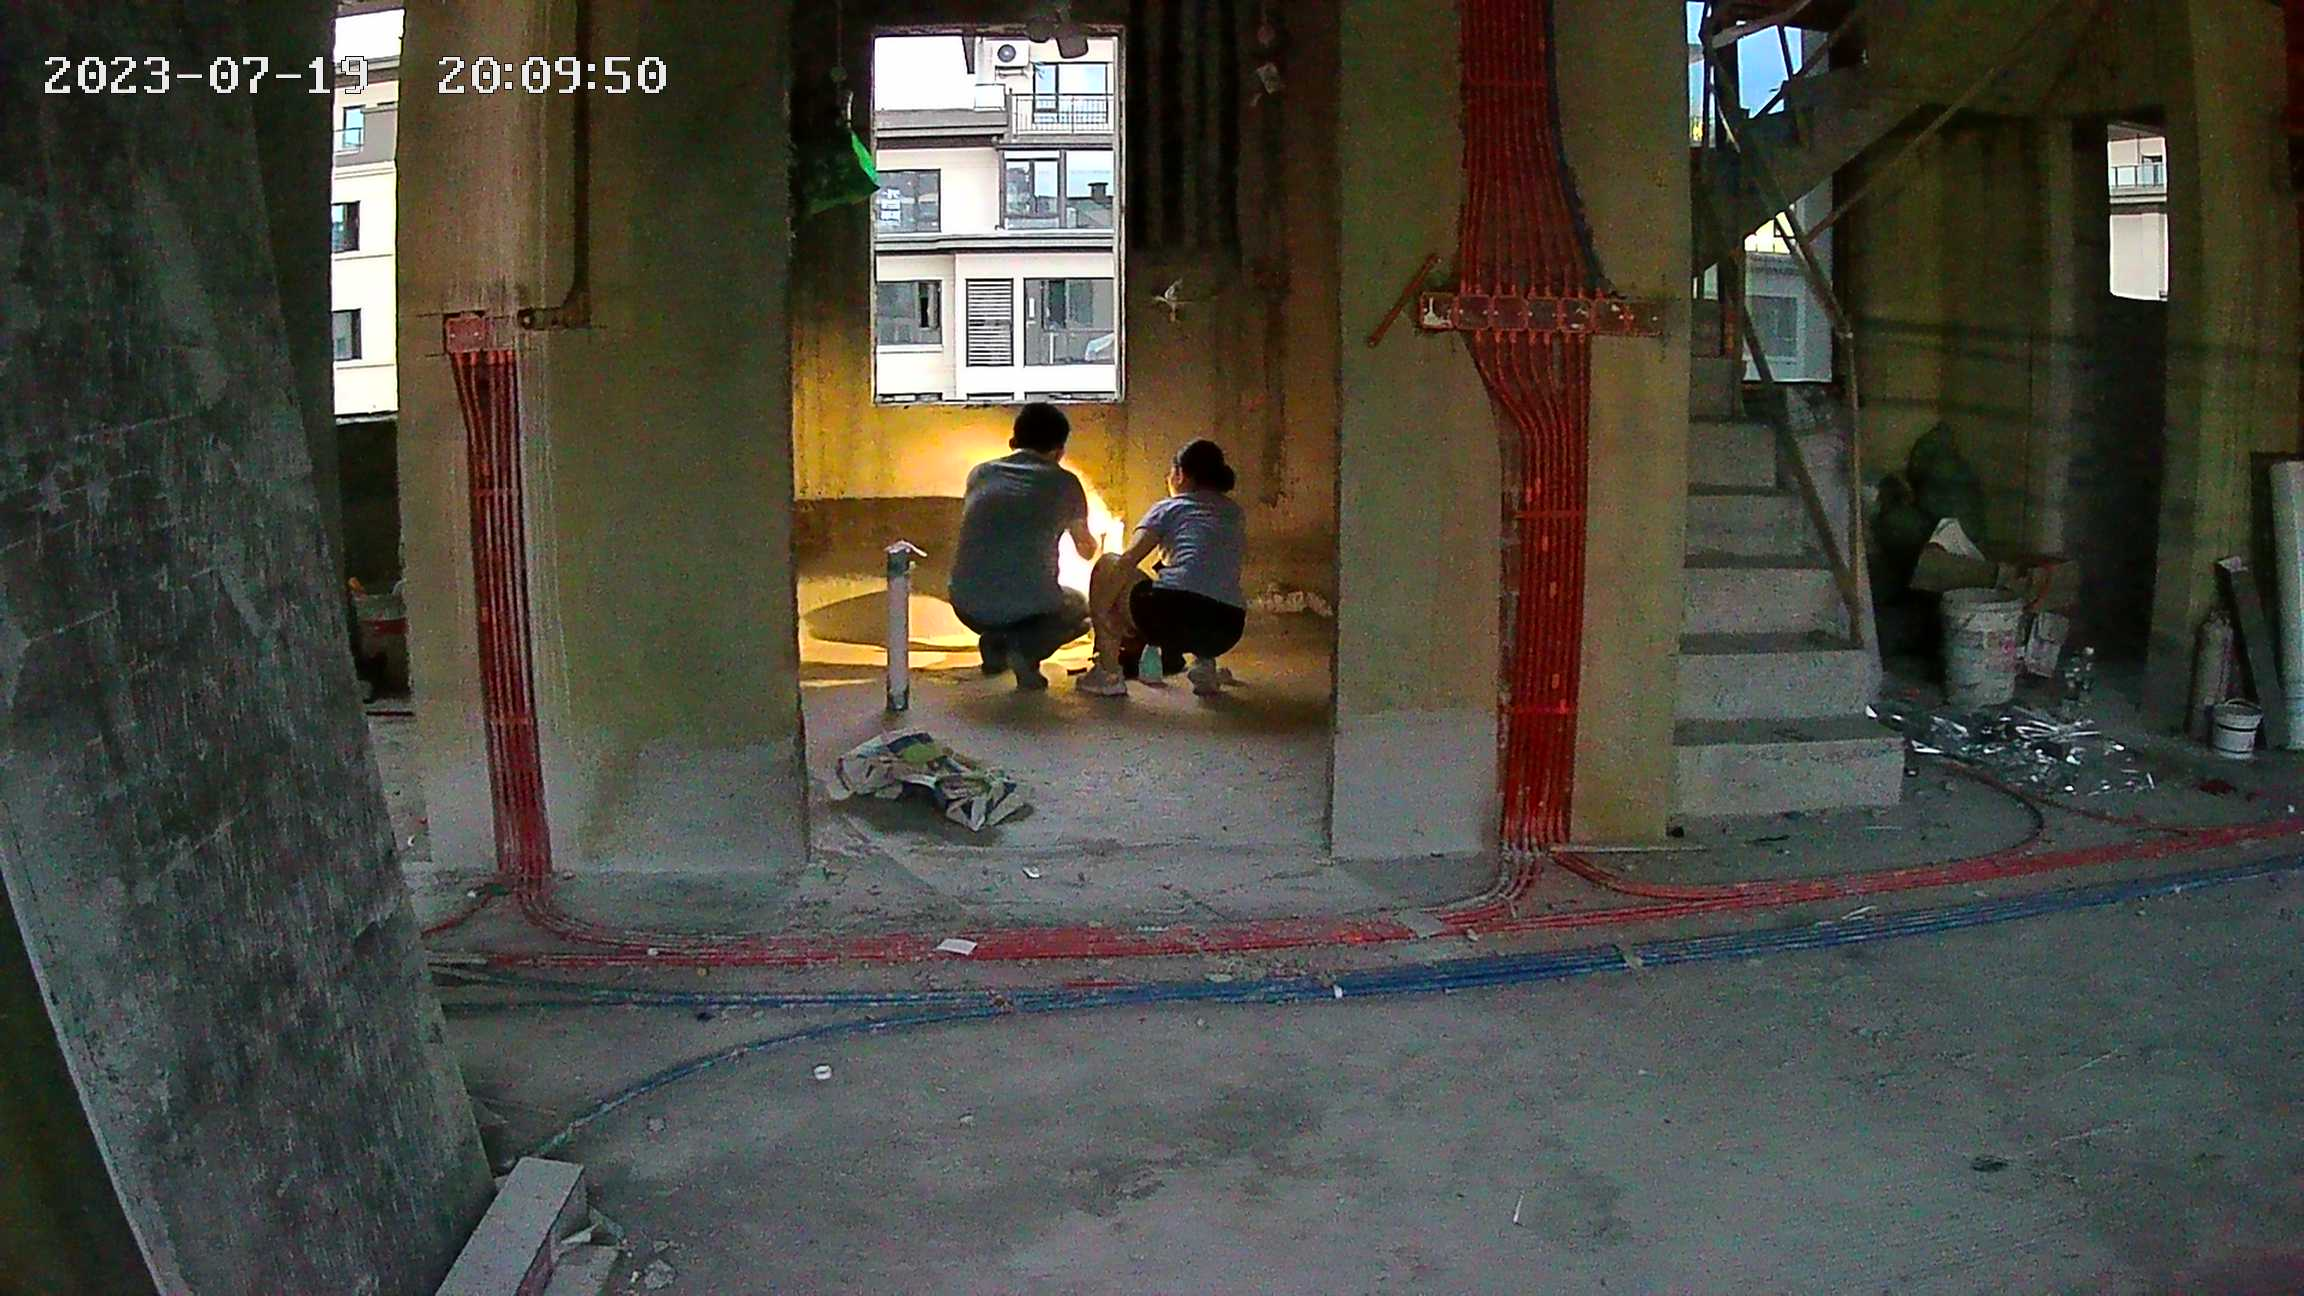people: (1087, 442, 1252, 705), (958, 403, 1091, 695)
window: (868, 36, 1123, 397), (329, 20, 404, 410)
